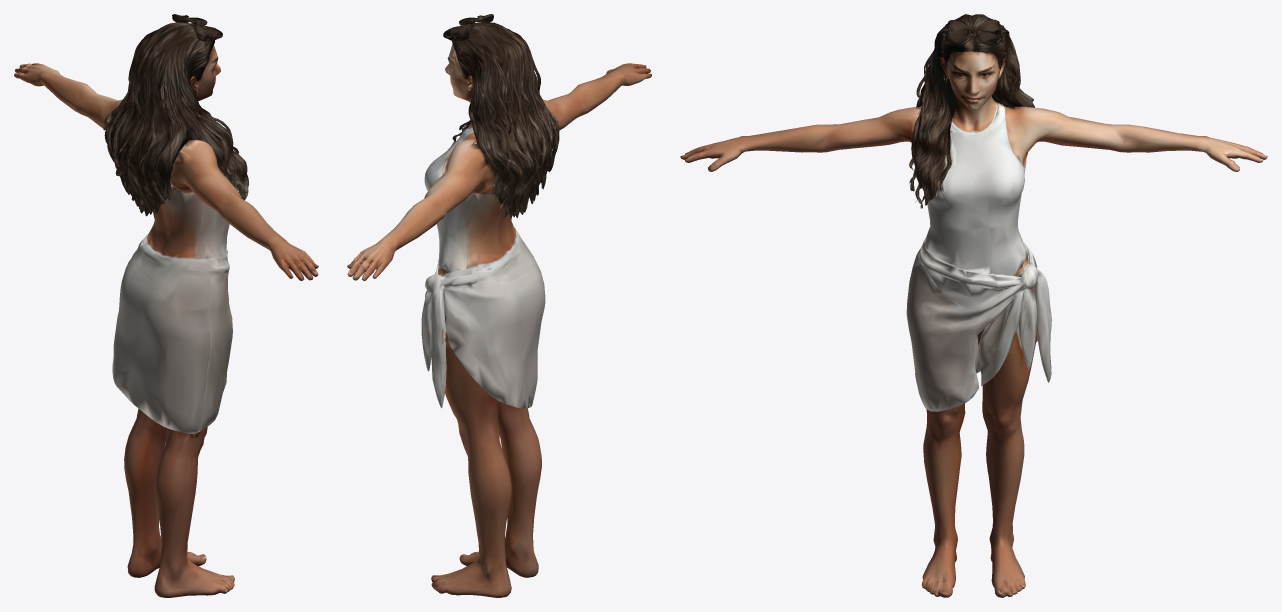
Rendered from the-topmodel.glb.
The picture shows the model from 3 angles, left to right: view 1: azimuth 30°, elevation 25°; view 2: azimuth 150°, elevation 25°; view 3: azimuth 270°, elevation 25°; orthographic projection.
Parts seen in each view (by area): view 1: 17-topmodel; view 2: 17-topmodel; view 3: 17-topmodel.
Part boxes in pixels (bbox=[...]): 17-topmodel: bbox=[14, 14, 318, 597]; 17-topmodel: bbox=[347, 14, 651, 597]; 17-topmodel: bbox=[680, 14, 1267, 597].
Size of the model in its own units: 0.2067 by 0.9794 by 0.9235.
1 material, 1 textured.
